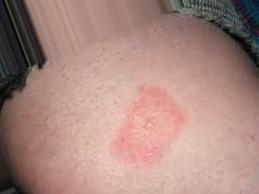Tick: (103, 78, 192, 176)
